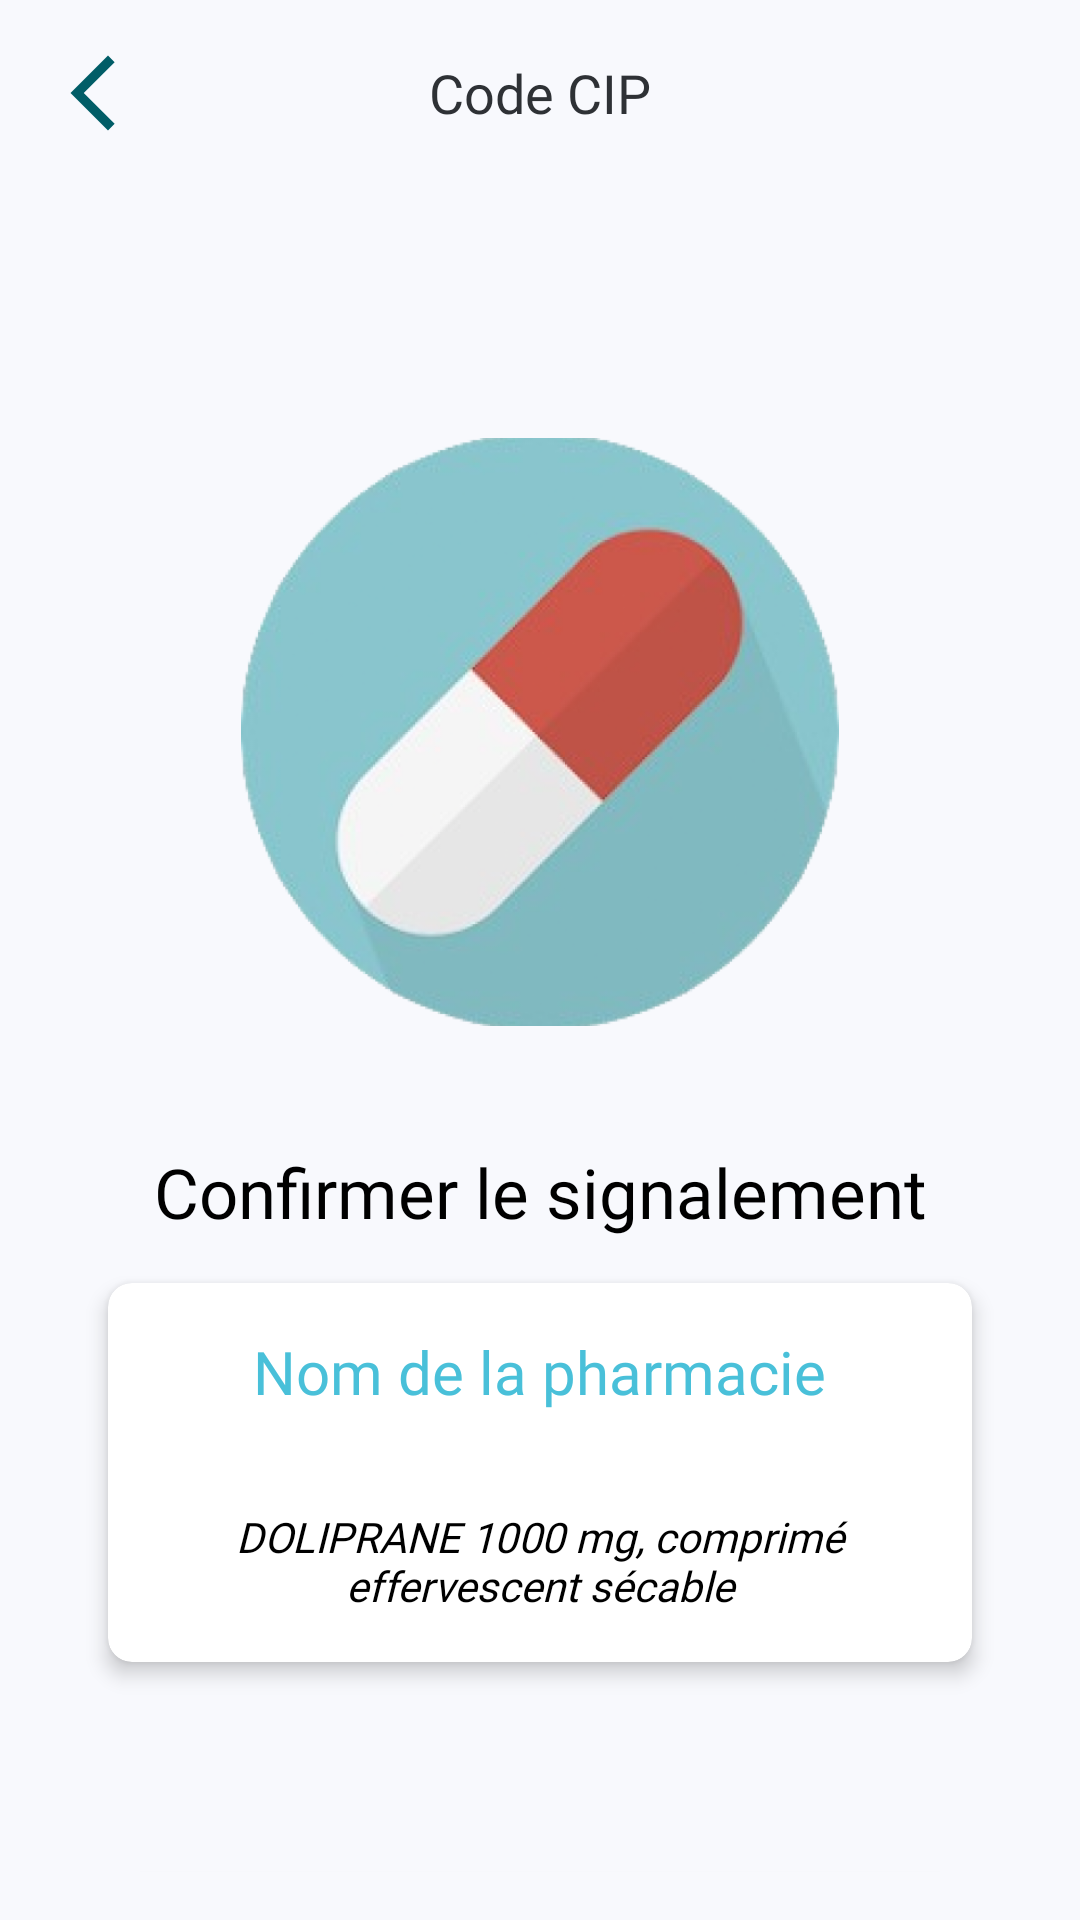

Named icons in this screenshot (1080 × 1920) and their centers, (x,y):
arrow back: (92,93)
